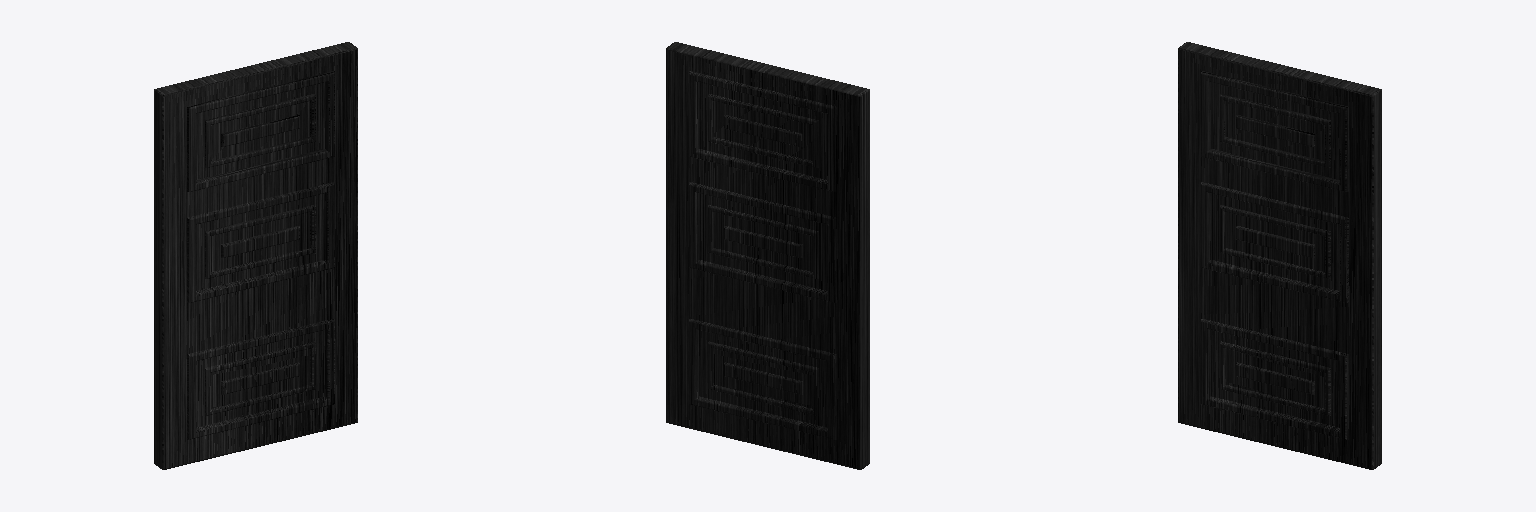
3 views of the same model, side by side, from view 1: azimuth 30°, elevation 25°; view 2: azimuth 150°, elevation 25°; view 3: azimuth 330°, elevation 25° (orthographic).
Visible parts, largest first — view 1: Door_Door; view 2: Door_Door; view 3: Door_Door.
Boxes of the visible parts, x1=… form: Door_Door: x1=154, y1=42, x2=357, y2=469; Door_Door: x1=666, y1=42, x2=869, y2=469; Door_Door: x1=1178, y1=42, x2=1381, y2=469.
Size of the model in its own units: 1.2 by 2.2 by 0.14.
Materials: 1 (1 with a texture image).